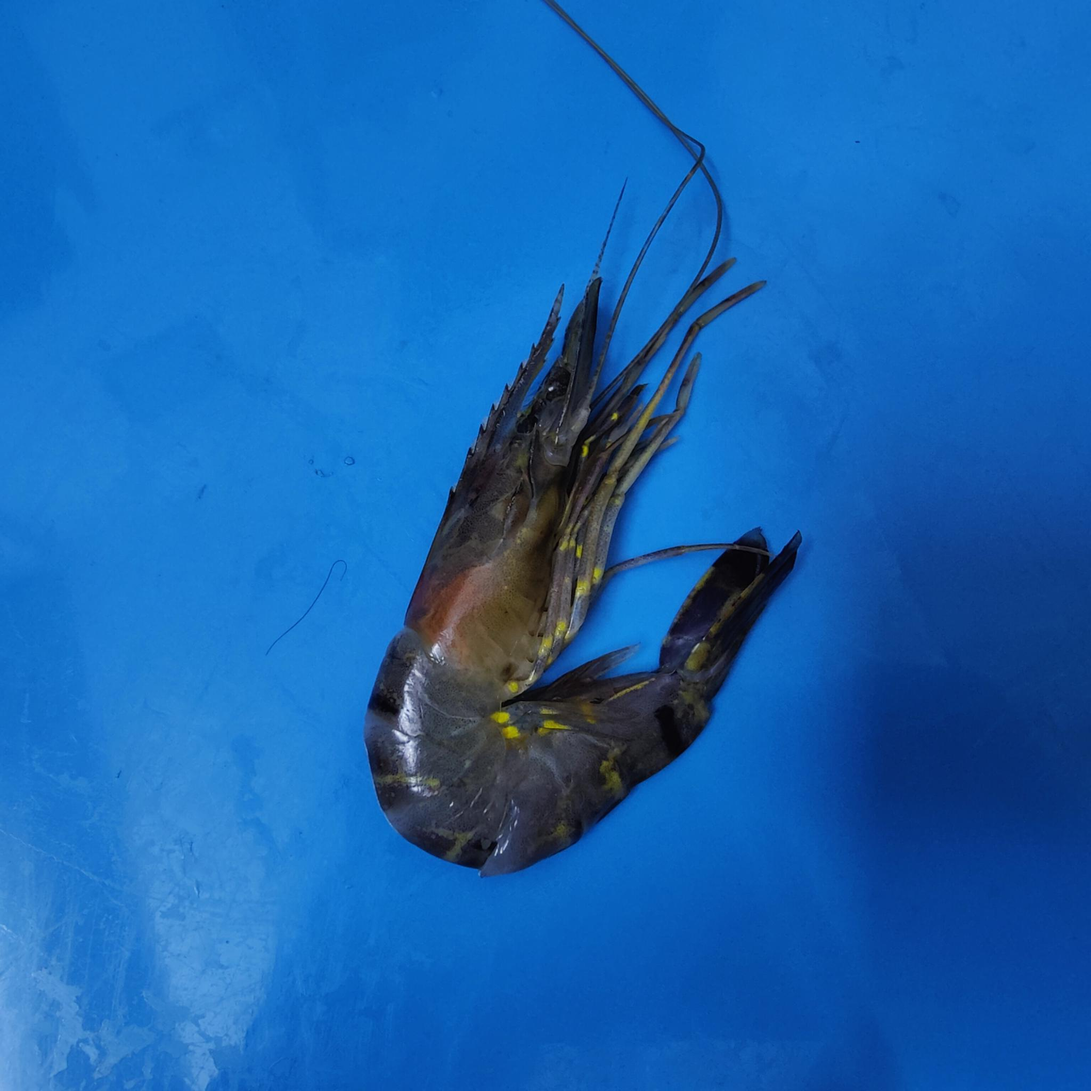whitespot: (411, 404, 557, 671), (376, 643, 507, 718)
